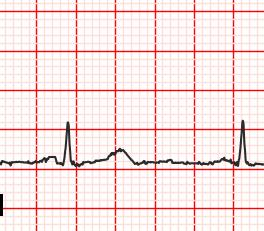LVH: (96, 144, 153, 167)
